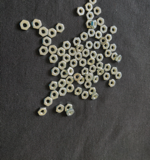nut: (19, 20, 30, 31), (55, 23, 65, 34), (32, 19, 42, 30), (38, 46, 49, 56), (37, 107, 48, 117), (38, 27, 49, 37), (42, 37, 52, 47), (49, 54, 59, 64), (51, 67, 60, 77), (49, 45, 58, 55), (43, 97, 53, 106), (77, 7, 86, 16), (80, 32, 89, 41), (63, 41, 72, 50), (79, 59, 88, 68), (59, 88, 68, 97), (56, 104, 65, 113), (48, 29, 57, 38), (86, 12, 95, 21), (85, 41, 94, 50), (64, 104, 73, 113), (57, 48, 66, 57), (62, 54, 71, 63), (58, 61, 67, 70), (99, 37, 108, 46), (65, 76, 74, 85), (50, 91, 59, 100), (94, 6, 102, 16), (50, 81, 58, 91), (69, 47, 77, 57), (88, 28, 96, 38), (90, 51, 98, 60), (110, 44, 118, 53), (70, 59, 78, 68), (75, 87, 83, 96), (84, 81, 93, 89), (74, 73, 82, 82), (85, 3, 93, 12), (95, 31, 103, 40), (66, 109, 75, 117), (73, 37, 81, 46), (58, 80, 67, 88), (82, 49, 90, 58), (89, 87, 97, 96), (109, 80, 117, 88), (96, 62, 104, 70), (110, 26, 118, 34), (97, 18, 105, 26), (60, 70, 68, 78), (105, 34, 113, 42), (115, 72, 123, 80), (104, 64, 112, 72), (103, 73, 111, 81), (76, 45, 84, 53), (81, 68, 89, 76), (94, 41, 101, 50), (97, 54, 104, 62), (101, 25, 108, 33), (103, 42, 110, 50), (105, 50, 112, 58), (97, 69, 105, 76), (90, 65, 97, 73), (88, 58, 95, 66), (91, 93, 99, 100), (82, 92, 89, 100), (86, 74, 94, 81), (78, 77, 85, 85), (68, 67, 74, 76), (86, 20, 92, 29), (75, 53, 82, 60), (112, 67, 118, 75), (116, 55, 122, 63), (112, 53, 118, 61), (93, 76, 99, 84), (92, 20, 97, 29), (89, 1, 97, 5)
